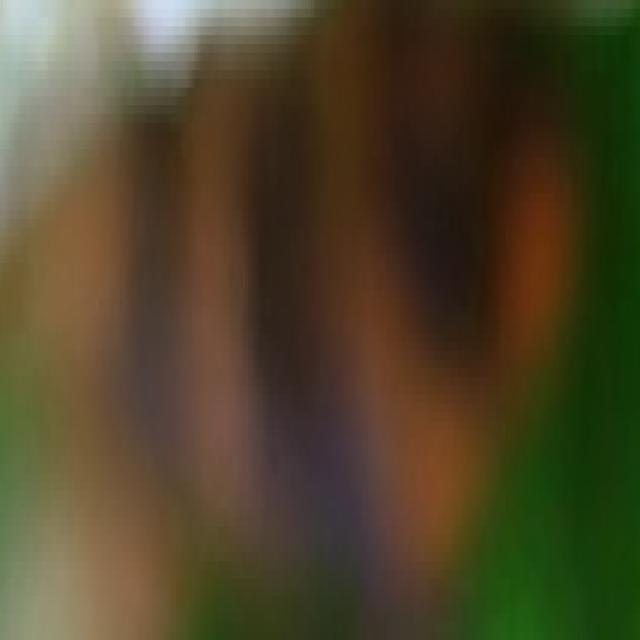fish: (0, 0, 637, 631)
